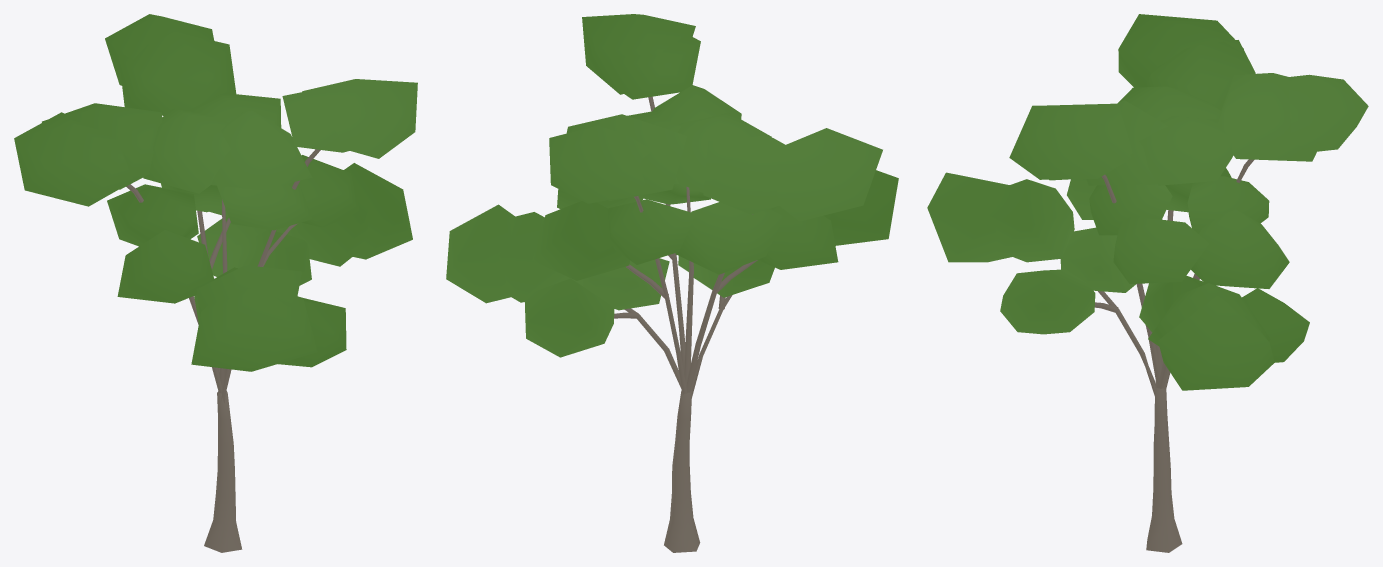
Rendered from Blender_Pecan_2_Far.glb.
The picture shows the model from 3 angles, left to right: view 1: azimuth 30°, elevation 25°; view 2: azimuth 150°, elevation 25°; view 3: azimuth 270°, elevation 25°; orthographic projection.
Parts seen in each view (by area): view 1: Blender_Pecan_2_Far; view 2: Blender_Pecan_2_Far; view 3: Blender_Pecan_2_Far.
Part boxes in pixels (left/top/right/bottom): Blender_Pecan_2_Far: left=14, top=14, right=417, bottom=552; Blender_Pecan_2_Far: left=446, top=14, right=898, bottom=552; Blender_Pecan_2_Far: left=927, top=14, right=1368, bottom=552.
Size of the model in its own units: 20.59 by 23.67 by 19.74.
